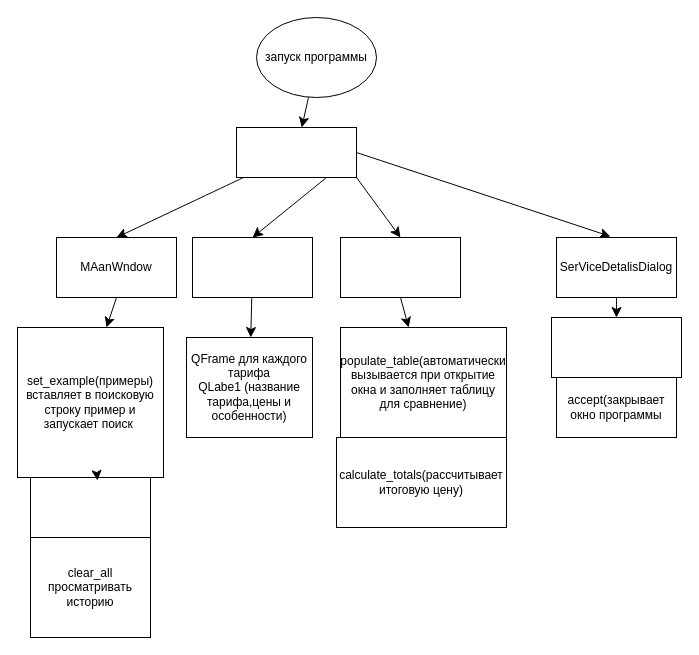
The diagram is 699 pixels wide and 655 high, and some of its shapes have lost their labels. The shapes that lost their labels are listed below. From the top down, each one's box as (x1, y1, x2, y2) in pixels, then its label:
(236, 126, 356, 178): левое меню
(192, 236, 312, 298): ServiceCard
(340, 236, 460, 298): ComparisonDialog
(550, 316, 682, 378): __init__ (создает интерфейс и принимает объекты)
(30, 476, 150, 538): start_search запускает поиск
